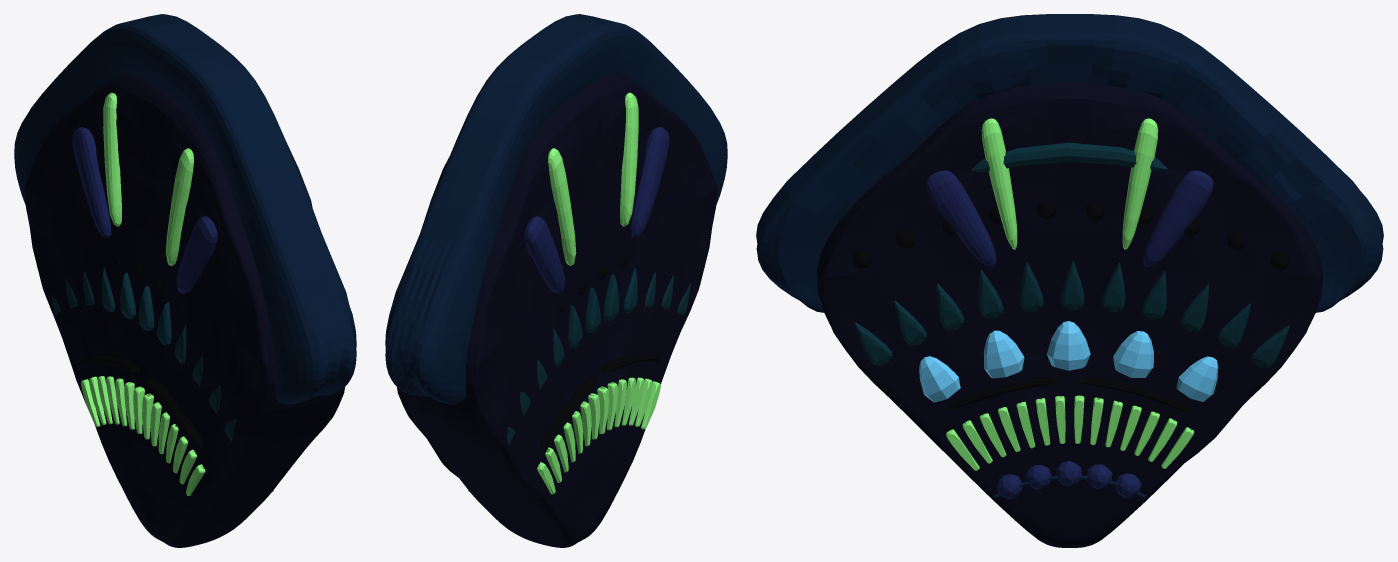
File: st3_door_top.fbx
The picture shows the model from 3 angles, left to right: view 1: azimuth 30°, elevation 25°; view 2: azimuth 150°, elevation 25°; view 3: azimuth 270°, elevation 25°; orthographic projection. The views are drawn at different scales.
Parts seen in each view (by area): view 1: stage3_skill_gimmick_door_art1_top_door; view 2: stage3_skill_gimmick_door_art1_top_door; view 3: stage3_skill_gimmick_door_art1_top_door.
Boxes of the visible parts, left/top/right/bottom form: stage3_skill_gimmick_door_art1_top_door: left=14, top=14, right=356, bottom=547; stage3_skill_gimmick_door_art1_top_door: left=385, top=14, right=727, bottom=547; stage3_skill_gimmick_door_art1_top_door: left=756, top=14, right=1383, bottom=547.
Bounding box in the file's own units: 37.67 × 167 × 183.
